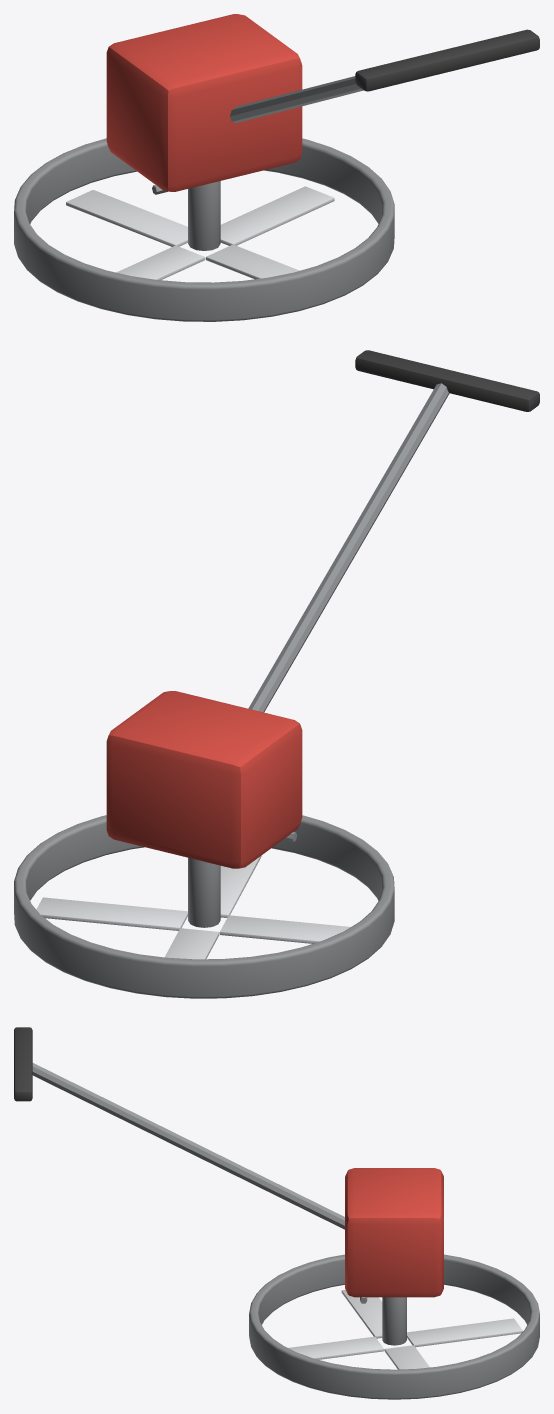
Rendered from EQP-CON-004.glb.
3 renders of one model, top to bottom at view 1: azimuth 30°, elevation 25°; view 2: azimuth 150°, elevation 25°; view 3: azimuth 270°, elevation 25°, orthographic. The views are drawn at different scales.
Visible parts, largest first — view 1: EQP-CON-004_motor, EQP-CON-004_anel, EQP-CON-004_guidao, EQP-CON-004_pa1, EQP-CON-004_pa0, EQP-CON-004_cabo, EQP-CON-004_eixo, EQP-CON-004_pa3, EQP-CON-004_pa2; view 2: EQP-CON-004_motor, EQP-CON-004_anel, EQP-CON-004_cabo, EQP-CON-004_guidao, EQP-CON-004_pa0, EQP-CON-004_pa2, EQP-CON-004_eixo, EQP-CON-004_pa1, EQP-CON-004_pa3; view 3: EQP-CON-004_anel, EQP-CON-004_motor, EQP-CON-004_cabo, EQP-CON-004_pa1, EQP-CON-004_guidao, EQP-CON-004_pa3, EQP-CON-004_eixo, EQP-CON-004_pa2, EQP-CON-004_pa0.
Boxes of the visible parts, x1,y1,x2,y2 form: EQP-CON-004_motor: (106,14,302,191); EQP-CON-004_anel: (14,138,394,321); EQP-CON-004_guidao: (355,29,539,91); EQP-CON-004_pa1: (66,190,187,246); EQP-CON-004_pa0: (220,186,334,245); EQP-CON-004_cabo: (230,76,363,122); EQP-CON-004_eixo: (188,181,220,250); EQP-CON-004_pa3: (205,244,299,279); EQP-CON-004_pa2: (116,245,204,280); EQP-CON-004_motor: (106,691,302,868); EQP-CON-004_anel: (14,815,394,998); EQP-CON-004_cabo: (248,383,449,712); EQP-CON-004_guidao: (355,350,539,411); EQP-CON-004_pa0: (36,897,187,930); EQP-CON-004_pa2: (219,915,350,943); EQP-CON-004_eixo: (188,857,220,927); EQP-CON-004_pa1: (164,928,219,959); EQP-CON-004_pa3: (220,855,261,917); EQP-CON-004_anel: (249,1254,539,1399); EQP-CON-004_motor: (345,1168,443,1297); EQP-CON-004_cabo: (32,1063,344,1229); EQP-CON-004_pa1: (407,1318,522,1347); EQP-CON-004_guidao: (14,1027,32,1101); EQP-CON-004_pa3: (288,1336,384,1359); EQP-CON-004_eixo: (382,1297,406,1345); EQP-CON-004_pa2: (341,1289,382,1338); EQP-CON-004_pa0: (384,1345,429,1369).
Bounding box in the file's own units: 0.94 × 1.02 × 1.7.
